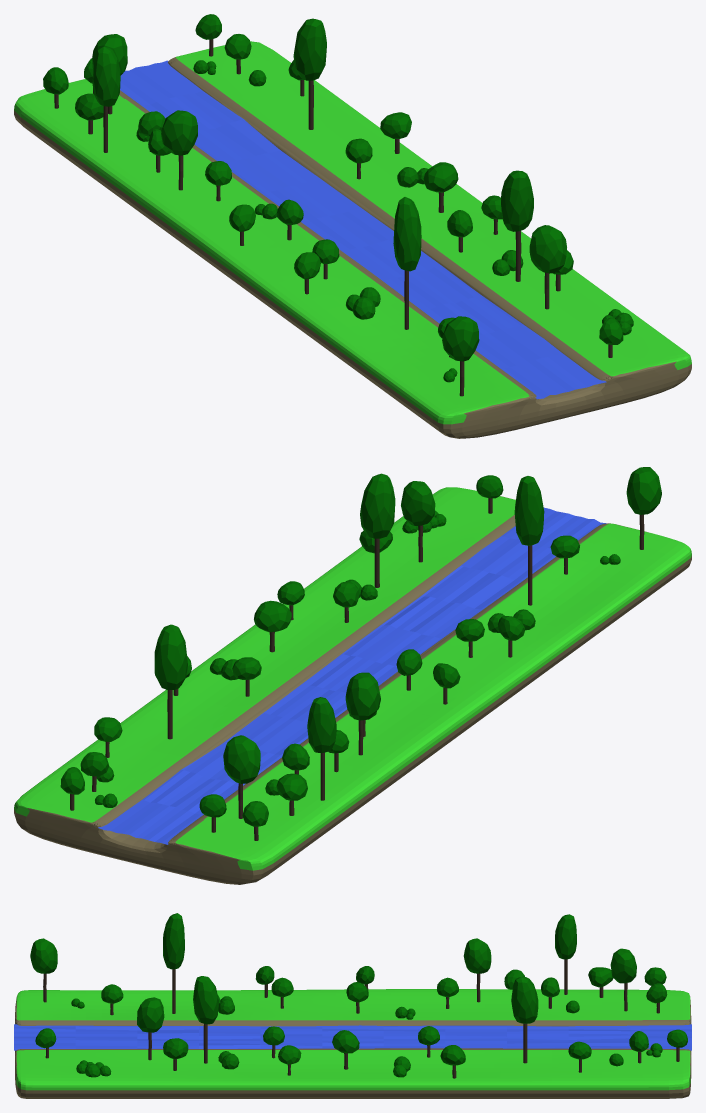
Rendered from River.gltf.
3 views of the same model, one above another, from view 1: azimuth 30°, elevation 25°; view 2: azimuth 150°, elevation 25°; view 3: azimuth 270°, elevation 25° (orthographic). The views are drawn at different scales.
Visible parts, largest first — view 1: floor_Plane, trees_Icosphere.045, river_Plane.001, smalltrees_Icosphere.016; view 2: floor_Plane, trees_Icosphere.045, river_Plane.001, smalltrees_Icosphere.016; view 3: floor_Plane, trees_Icosphere.045, river_Plane.001, smalltrees_Icosphere.016.
Part boxes in pixels (x1,y1,x2,y2): floor_Plane: (14,41,691,438); trees_Icosphere.045: (43,14,623,396); river_Plane.001: (120,60,606,399); smalltrees_Icosphere.016: (136,60,633,382); floor_Plane: (14,487,691,884); trees_Icosphere.045: (60,467,661,840); river_Plane.001: (98,507,606,844); smalltrees_Icosphere.016: (95,510,620,807); floor_Plane: (15,989,691,1098); trees_Icosphere.045: (30,913,687,1078); river_Plane.001: (14,1024,691,1050); smalltrees_Icosphere.016: (71,995,662,1077).
Size of the model in its own units: 10.01 by 6.08 by 30.06.
